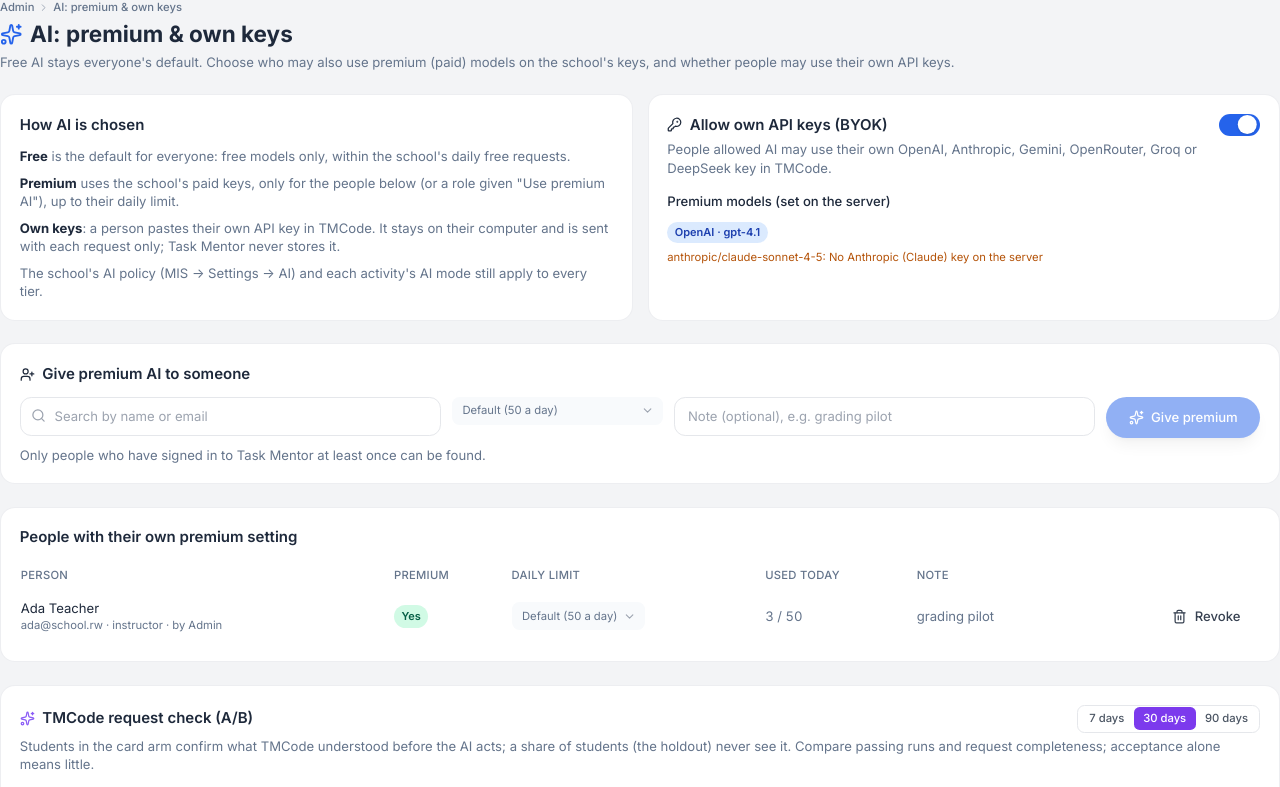
AiSettingsPage › revokes after confirming
Click the button "Revoke" at (1206, 616), box [1154,599,1259,633]
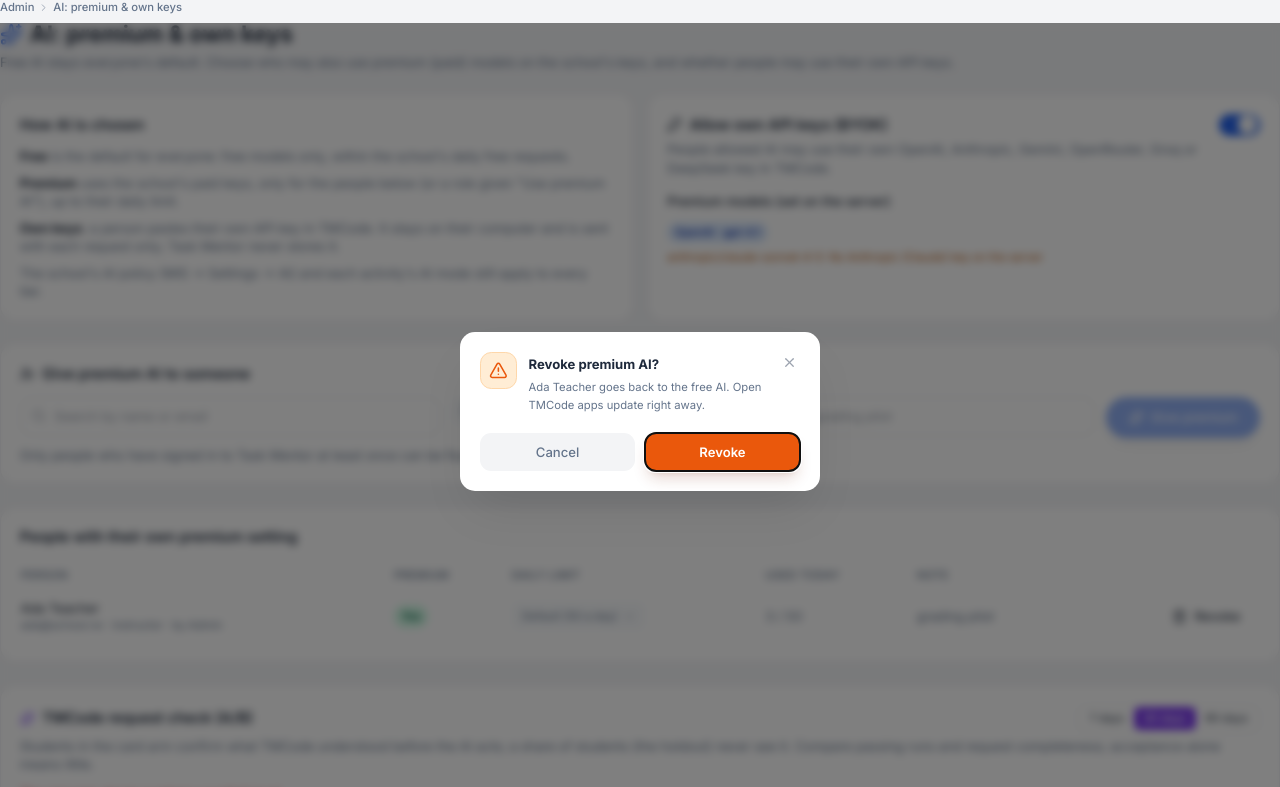
Click the button "Revoke" at (722, 452), box [645,433,800,471]
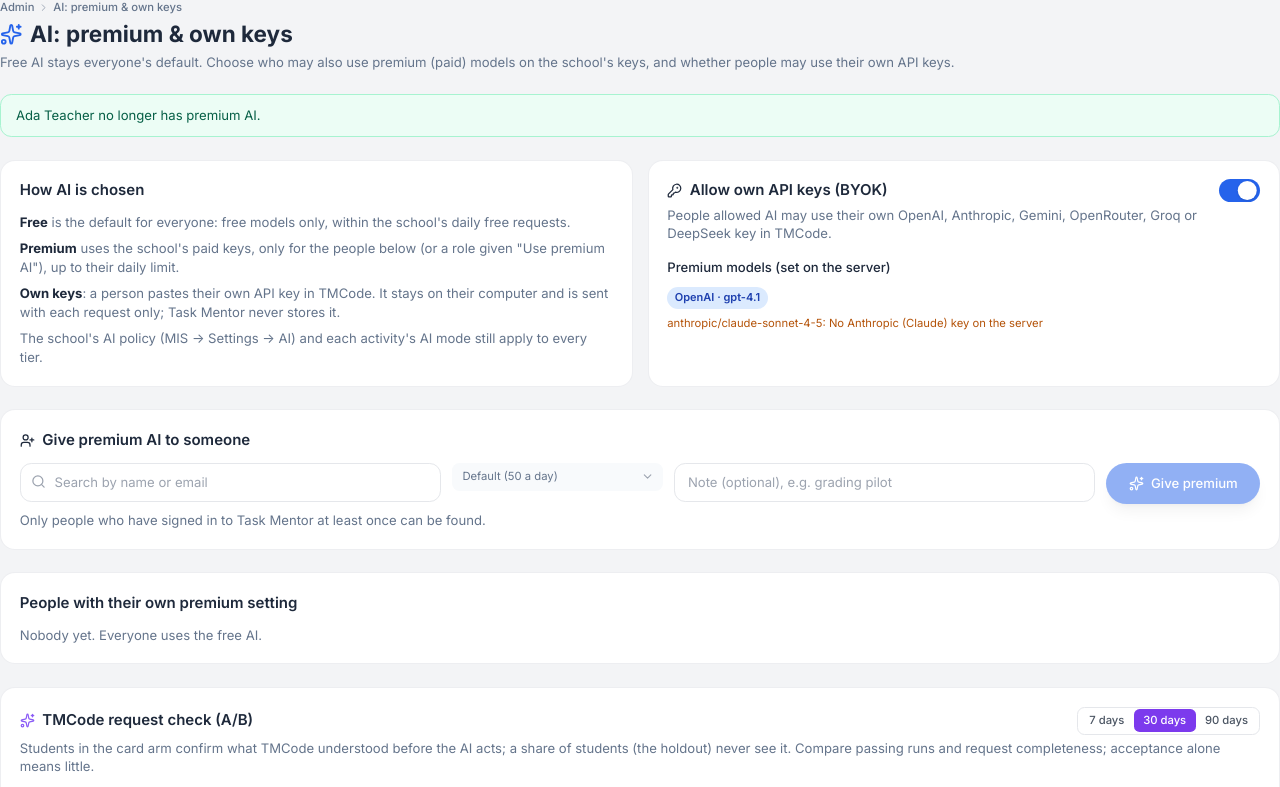
Check: the row with test id "entitled-7" is gone
